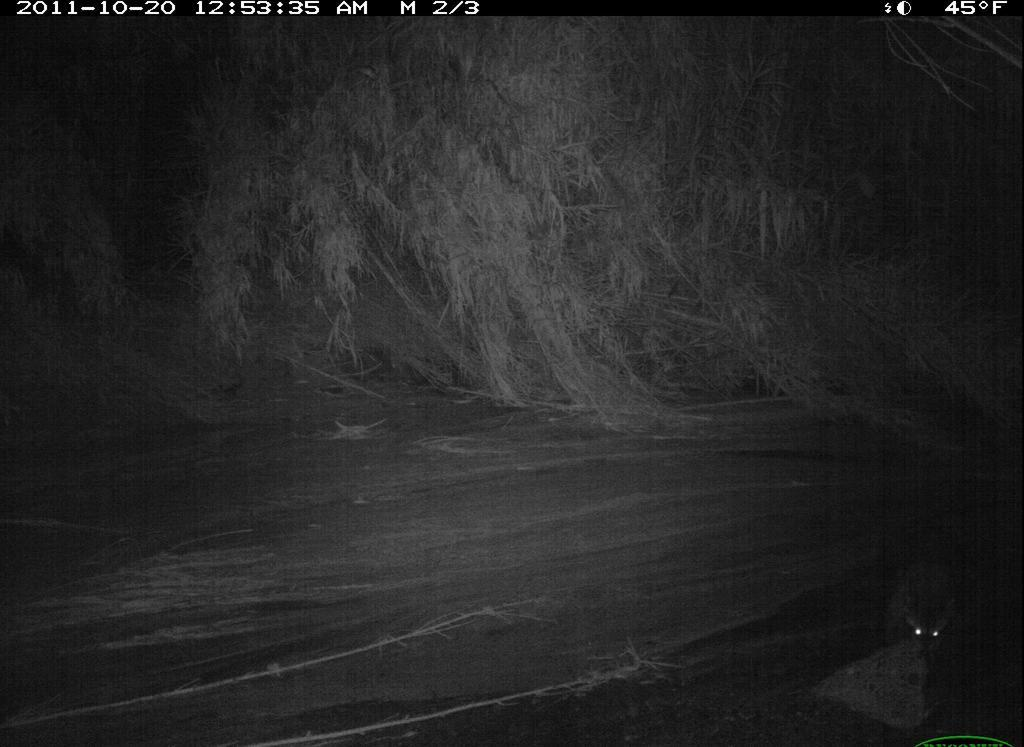raccoon: (895, 507, 982, 662)
